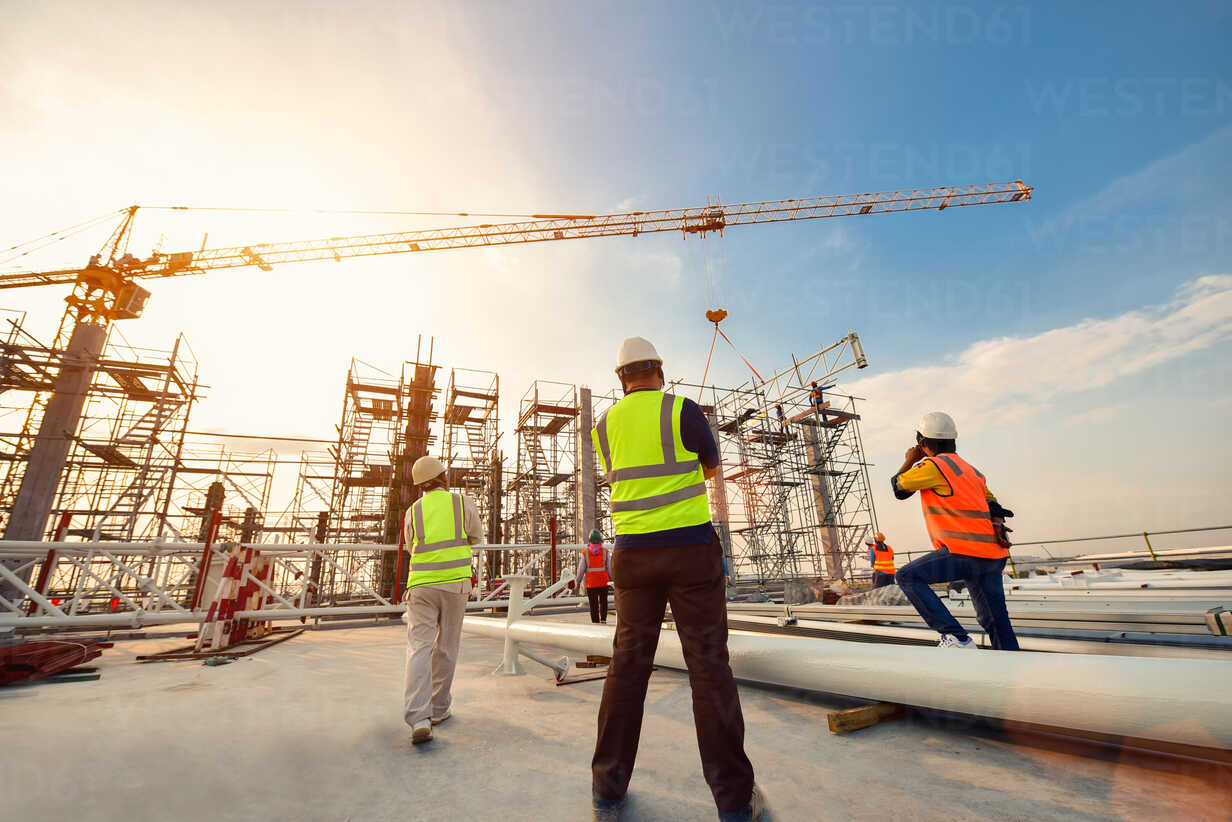With Helmet: (612, 330, 670, 398), (912, 410, 959, 459), (409, 455, 449, 494)
